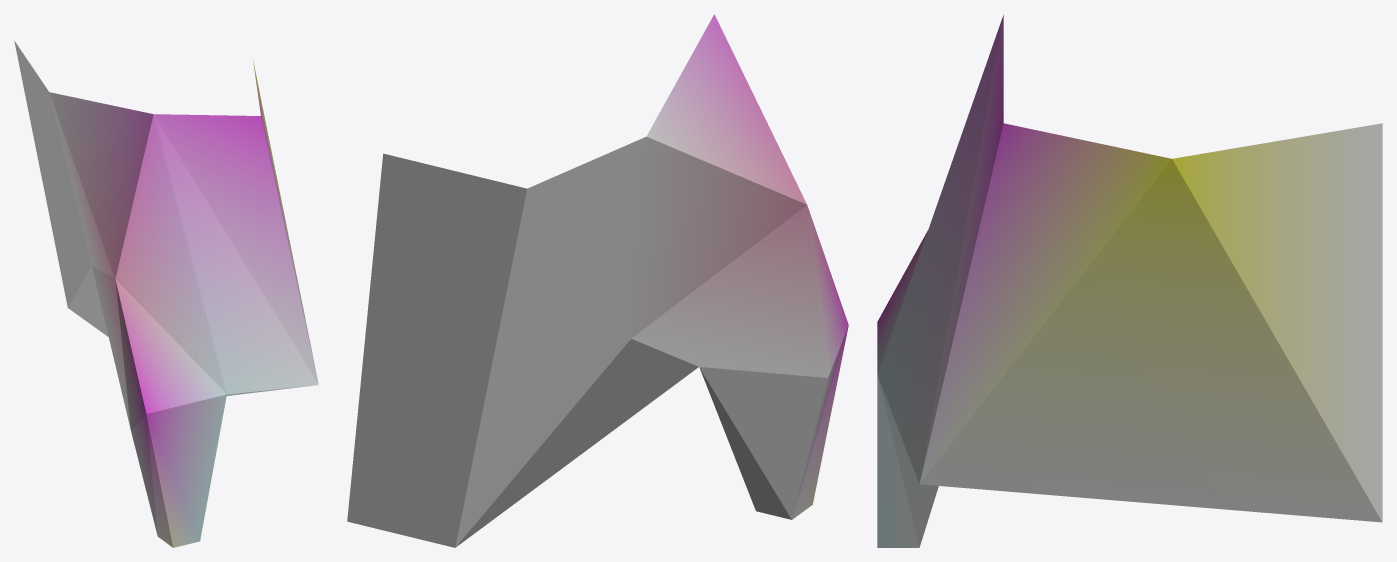
3 renders of one model, left to right at view 1: azimuth 30°, elevation 25°; view 2: azimuth 150°, elevation 25°; view 3: azimuth 270°, elevation 25°, orthographic. The views are drawn at different scales.
Parts seen in each view (by area): view 1: model_10FD; view 2: model_10FD; view 3: model_10FD.
Boxes of the visible parts, x1=… form: model_10FD: x1=14, y1=41, x2=318, y2=547; model_10FD: x1=347, y1=14, x2=848, y2=547; model_10FD: x1=877, y1=15, x2=1382, y2=547.
Bounding box in the file's own units: 8 × 14 × 12.
